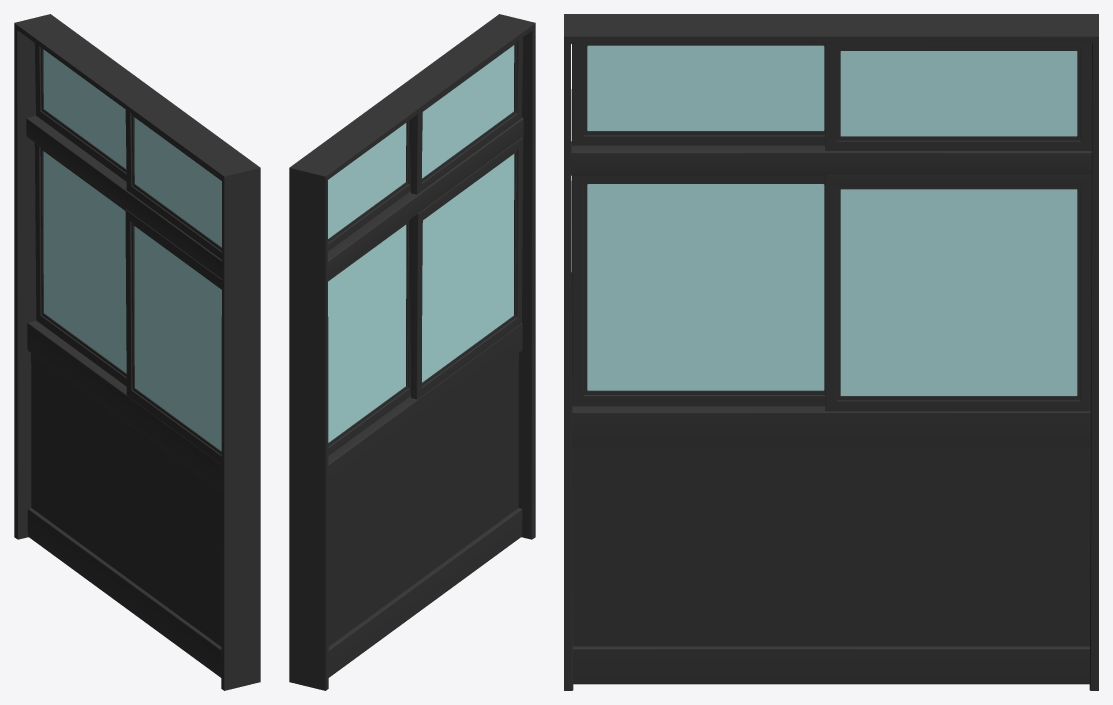
Rendered from SM_Partition_02.fbx.
3 views of the same model, side by side, from view 1: azimuth 30°, elevation 25°; view 2: azimuth 150°, elevation 25°; view 3: azimuth 270°, elevation 25° (orthographic). The views are drawn at different scales.
Visible parts, largest first — view 1: SM_Partition_02_LOD0; view 2: SM_Partition_02_LOD0; view 3: SM_Partition_02_LOD0.
Part boxes in pixels (x1,y1,x2,y2): SM_Partition_02_LOD0: (14, 14, 260, 690); SM_Partition_02_LOD0: (289, 14, 535, 690); SM_Partition_02_LOD0: (564, 14, 1098, 690).
Size of the model in its own units: 20 by 200 by 270.
